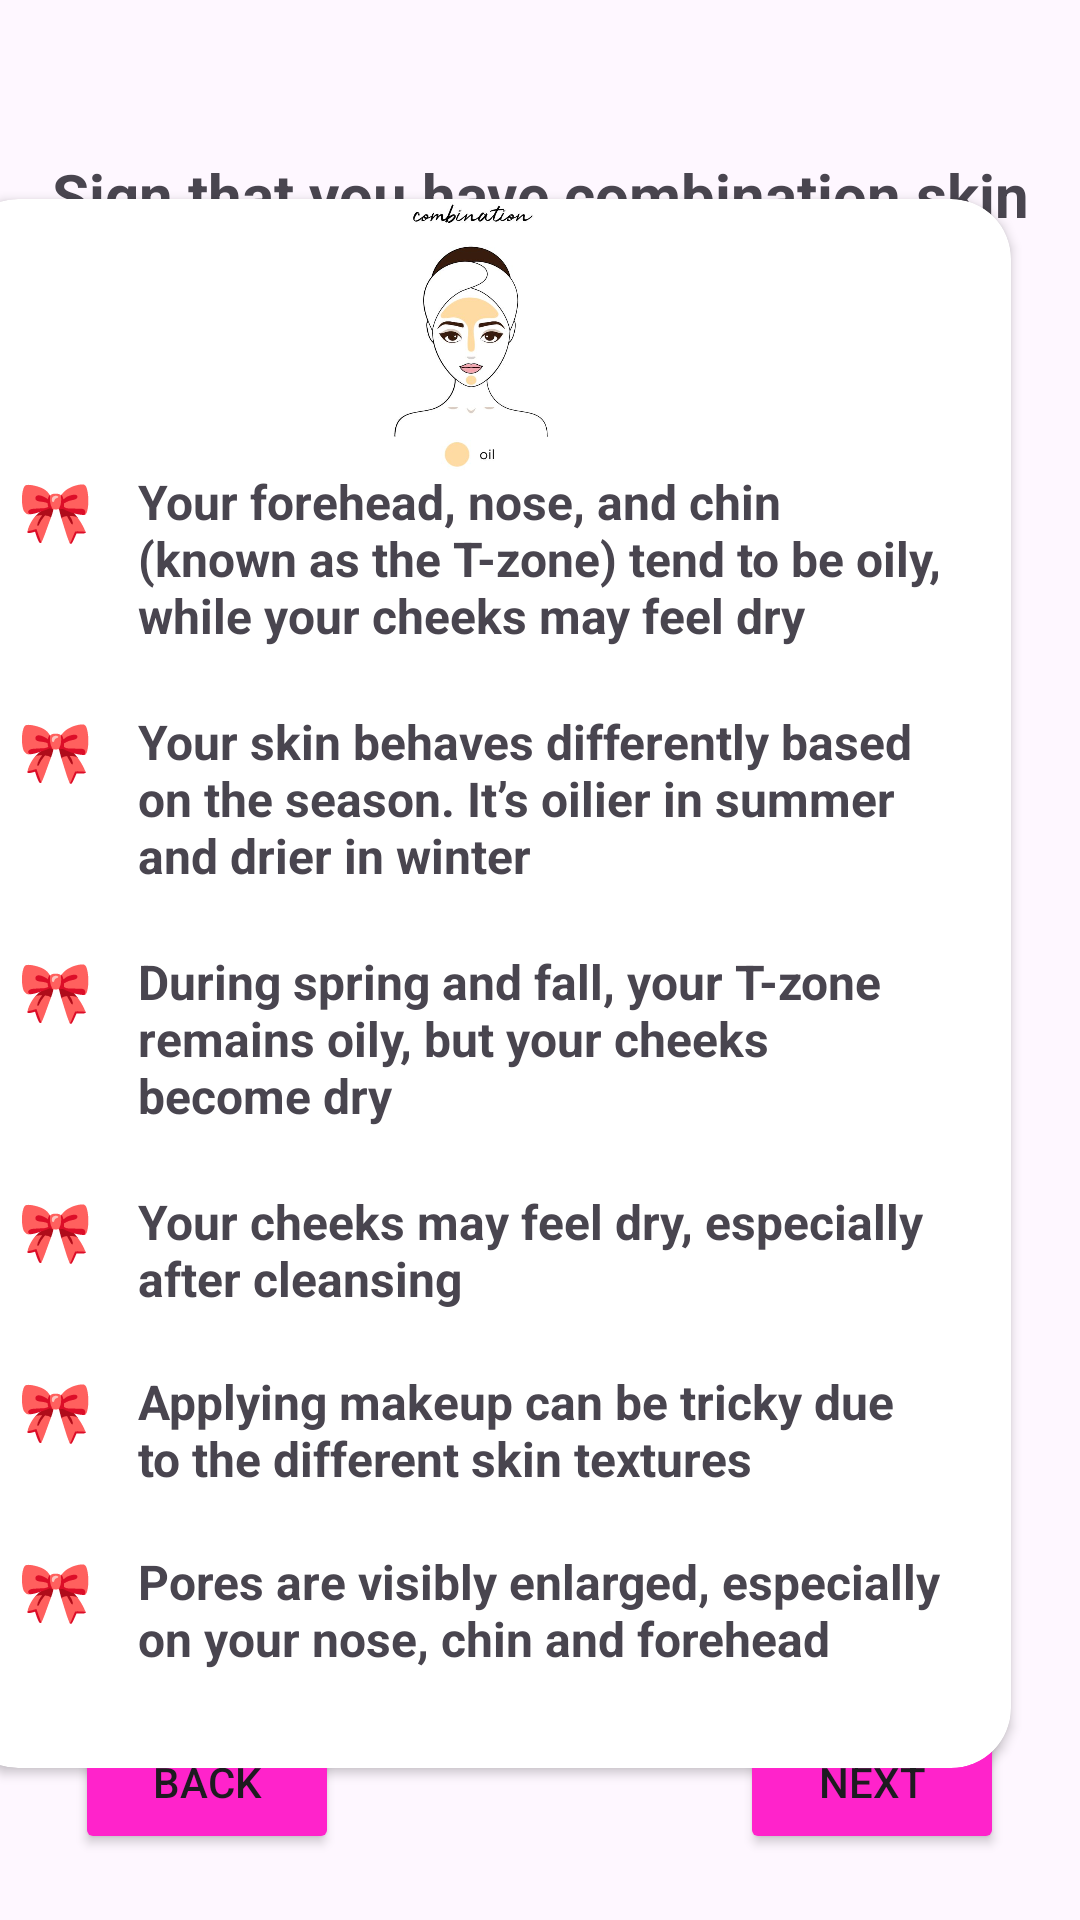

Icon click points for this 1080×1920 phone screenshot, format [x,y]:
skin care quiz: [471,335]
